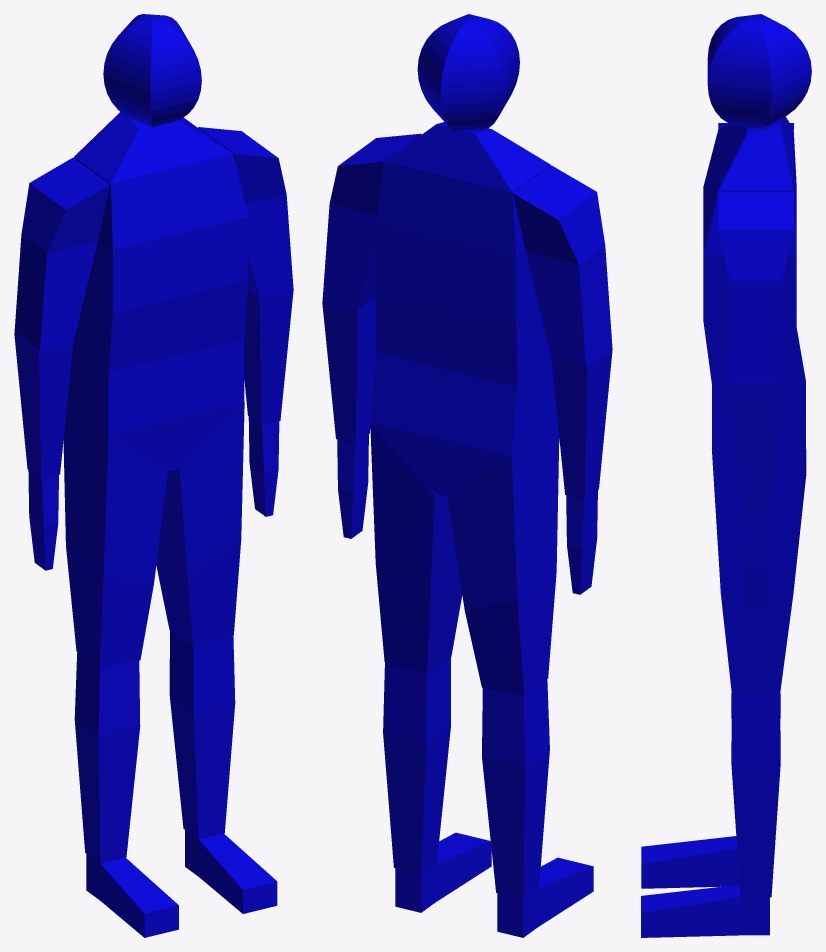
The model's file is player_blue.fbx.
3 views of the same model, side by side, from view 1: azimuth 30°, elevation 25°; view 2: azimuth 150°, elevation 25°; view 3: azimuth 270°, elevation 25° (orthographic). The views are drawn at different scales.
Parts seen in each view (by area): view 1: body.001, upper_right_leg.001, upper_left_leg.001, upper_right_arm.001, lower_right_leg.001, lower_left_leg.001, head.001, upper_left_arm.001, lower_right_arm.001, lower_left_arm.001, right_foot.001, left_foot.001 (+2 smaller); view 2: body.001, upper_right_leg.001, upper_left_leg.001, upper_right_arm.001, lower_right_leg.001, lower_left_leg.001, head.001, upper_left_arm.001, lower_right_arm.001, lower_left_arm.001, right_foot.001, left_foot.001 (+2 smaller); view 3: body.001, upper_left_leg.001, upper_left_arm.001, head.001, lower_left_leg.001, left_foot.001, lower_left_arm.001, right_foot.001, left_hand.001.
Boxes of the visible parts, x1=… form: body.001: x1=67, y1=112, x2=248, y2=471; upper_right_leg.001: x1=63, y1=404, x2=167, y2=667; upper_left_leg.001: x1=156, y1=402, x2=244, y2=647; upper_right_arm.001: x1=14, y1=157, x2=109, y2=351; lower_right_leg.001: x1=74, y1=652, x2=140, y2=863; lower_left_leg.001: x1=169, y1=630, x2=235, y2=839; head.001: x1=103, y1=14, x2=201, y2=127; upper_left_arm.001: x1=198, y1=127, x2=293, y2=297; lower_right_arm.001: x1=14, y1=333, x2=73, y2=478; lower_left_arm.001: x1=244, y1=289, x2=293, y2=425; right_foot.001: x1=86, y1=854, x2=178, y2=937; left_foot.001: x1=185, y1=830, x2=277, y2=913; body.001: x1=371, y1=122, x2=557, y2=496; upper_right_leg.001: x1=447, y1=422, x2=559, y2=695; upper_left_leg.001: x1=370, y1=421, x2=462, y2=674; upper_right_arm.001: x1=513, y1=165, x2=612, y2=366; lower_right_leg.001: x1=482, y1=679, x2=549, y2=899; lower_left_leg.001: x1=383, y1=657, x2=450, y2=874; head.001: x1=417, y1=14, x2=519, y2=130; upper_left_arm.001: x1=322, y1=133, x2=421, y2=310; lower_right_arm.001: x1=551, y1=348, x2=612, y2=499; lower_left_arm.001: x1=322, y1=297, x2=376, y2=443; right_foot.001: x1=497, y1=857, x2=593, y2=937; left_foot.001: x1=395, y1=832, x2=491, y2=912; body.001: x1=703, y1=116, x2=805, y2=448; upper_left_leg.001: x1=712, y1=448, x2=806, y2=694; upper_left_arm.001: x1=718, y1=192, x2=793, y2=383; head.001: x1=707, y1=14, x2=811, y2=128; lower_left_leg.001: x1=731, y1=694, x2=780, y2=897; left_foot.001: x1=641, y1=884, x2=769, y2=937; lower_left_arm.001: x1=730, y1=383, x2=781, y2=516; right_foot.001: x1=641, y1=836, x2=739, y2=888; left_hand.001: x1=741, y1=517, x2=770, y2=610.
Size of the model in its own units: 120 by 390 by 68.16.
